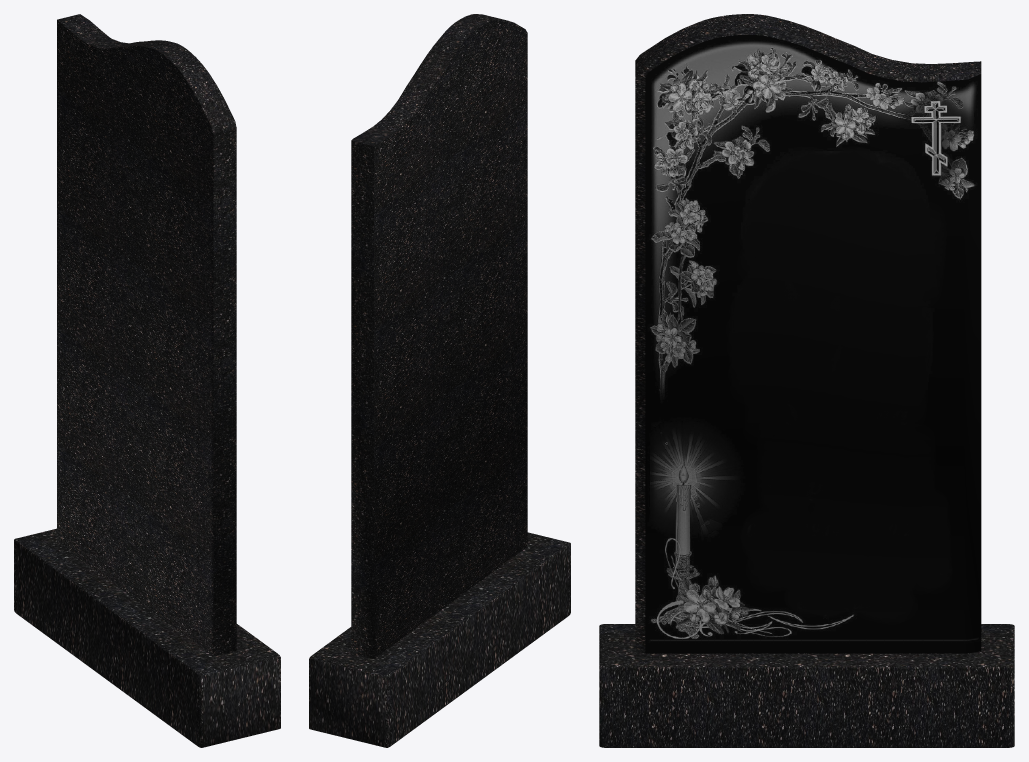
Rendered from Памятник Фон цветы [granite_1_orthodox] (100).glb.
3 views of the same model, side by side, from view 1: azimuth 30°, elevation 25°; view 2: azimuth 150°, elevation 25°; view 3: azimuth 270°, elevation 25° (orthographic). The views are drawn at different scales.
Visible parts, largest first — view 1: Куб.109, Куб.004; view 2: Куб.109, Куб.004; view 3: Куб.109, Куб.004.
Part boxes in pixels (left/top/right/bottom): Куб.109: left=57, top=14, right=236, bottom=656; Куб.004: left=14, top=528, right=280, bottom=747; Куб.109: left=351, top=14, right=527, bottom=658; Куб.004: left=309, top=532, right=570, bottom=747; Куб.109: left=635, top=14, right=981, bottom=653; Куб.004: left=599, top=624, right=1014, bottom=747.
Size of the model in its own units: 0.15 by 1.13 by 0.6.
Materials: 3 (3 with a texture image).
